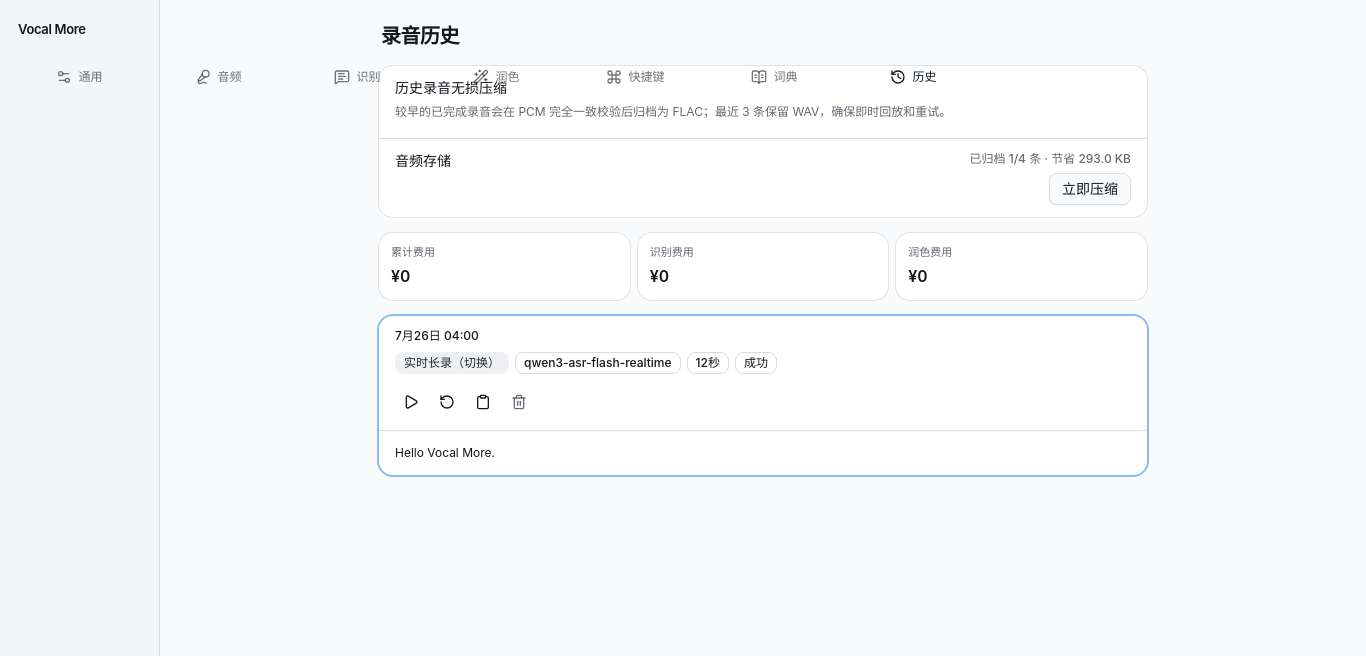
disables instruction polish for native hotword transcription
Click the tab "润色" at (496, 77), box [428, 59, 565, 95]
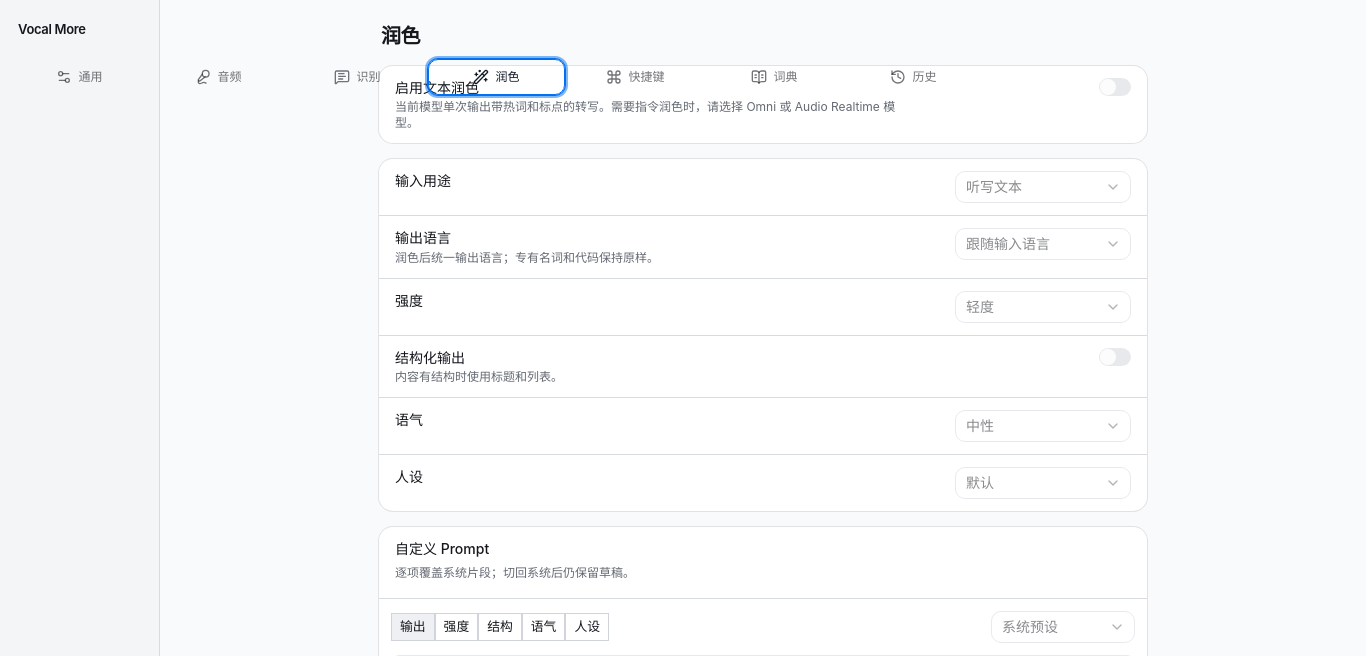
Result: the text "当前模型单次输出带热词和标点的转写。需要指令润色时，请选择 Omni 或 Audio Realtime 模型。" is shown at [395, 99, 907, 131]
Result: the dropdown labelled "输入用途" is disabled at [955, 171, 1131, 203]
